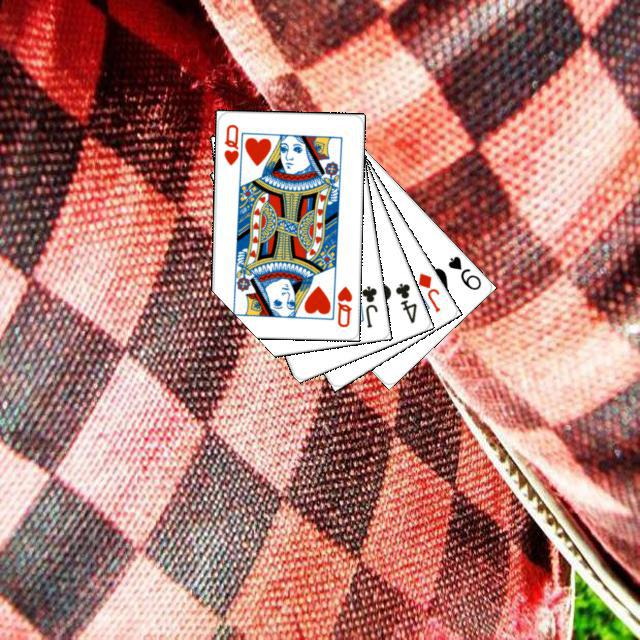4c: (390, 278, 419, 325)
9s: (443, 251, 483, 292)
Jc: (357, 281, 379, 329)
Jd: (413, 268, 442, 314)
Qh: (219, 120, 244, 172), (332, 281, 354, 329)
